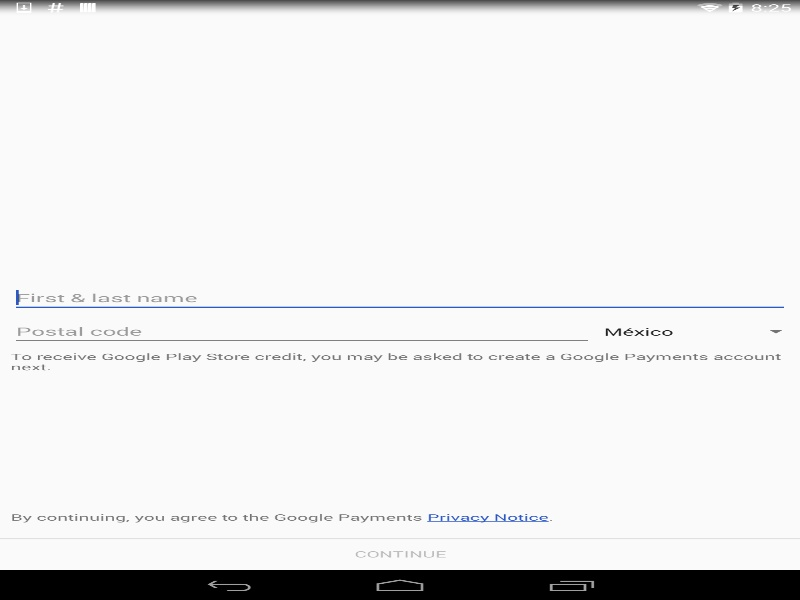Button: (0, 538, 800, 570)
Input: (10, 283, 789, 312), (10, 317, 593, 345)
